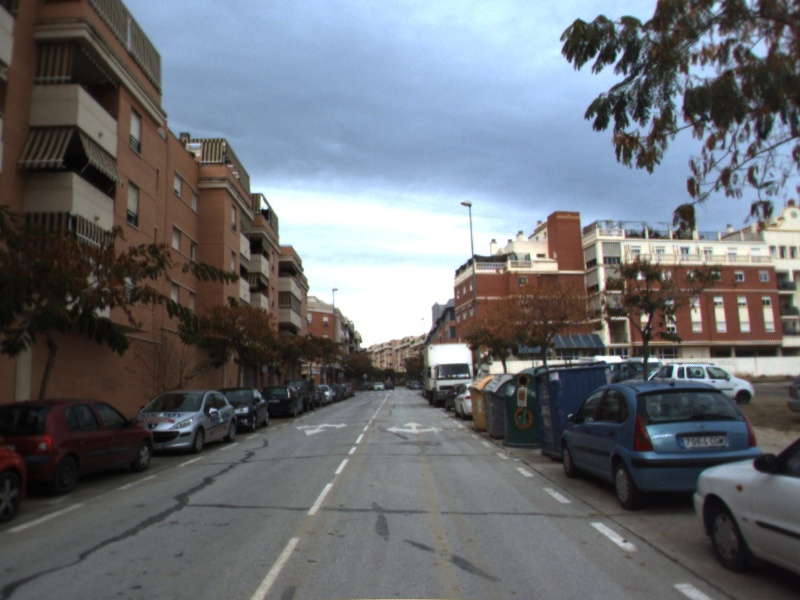STRAIGHT_LEFT_RIGHT: (384, 420, 446, 436)
